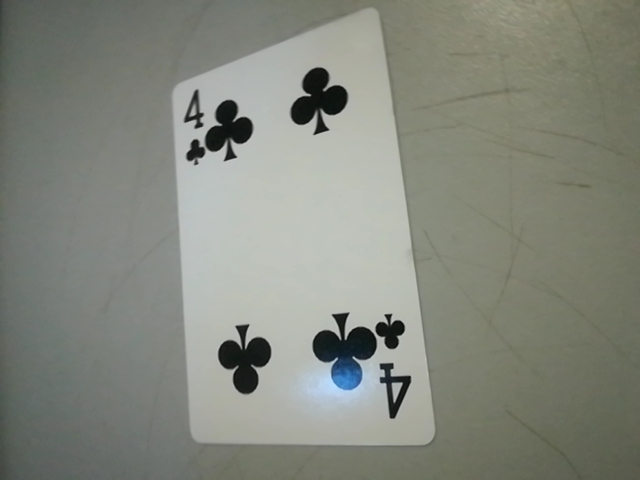mh 4: (369, 304, 425, 431), (170, 90, 218, 168)
